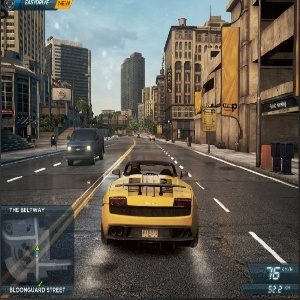ad: (49, 85, 72, 101)
building: (163, 22, 224, 143), (45, 35, 91, 120), (117, 51, 146, 122)
lamp post: (66, 66, 91, 127)
mailbox: (273, 137, 295, 175), (259, 140, 274, 170), (50, 133, 59, 150), (185, 135, 194, 152), (24, 132, 32, 146)
tree: (74, 100, 94, 130), (127, 113, 140, 137), (143, 113, 157, 135)
vehicle: (67, 127, 106, 165), (148, 133, 157, 142)
